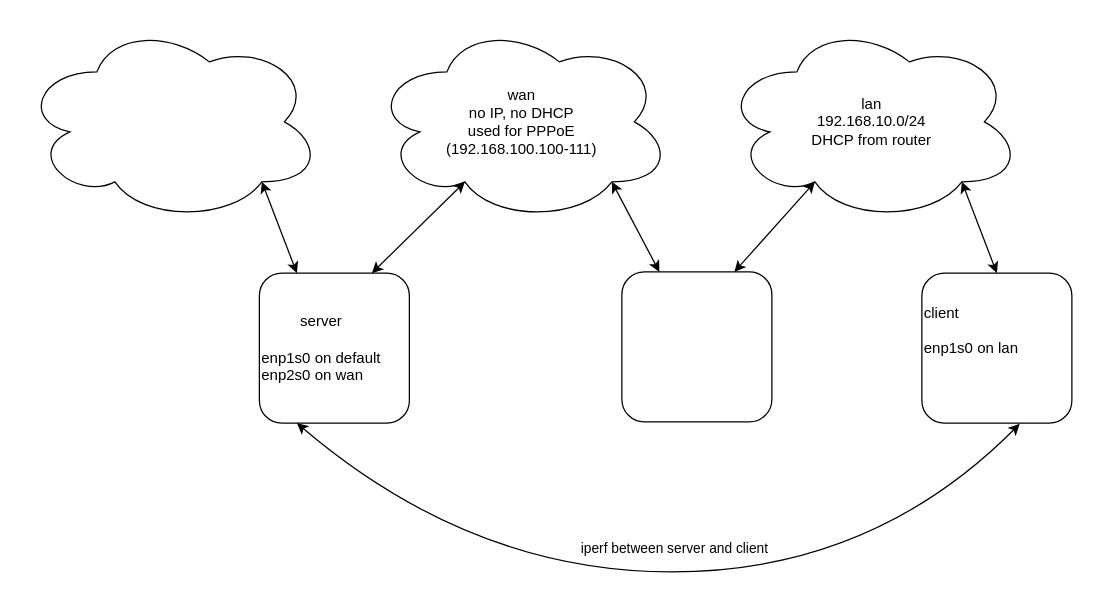
Image size: 1094x594. Some labels were removed from this diagram. The box of each missing label's shape, as (x1, y1, x2, y2) in pixels:
default 192.168.122.0/24 DHCP from libvirt NAT to Internat: (21, 21, 322, 222)
router eth0 on lan eth1 on wan: (621, 271, 772, 422)
